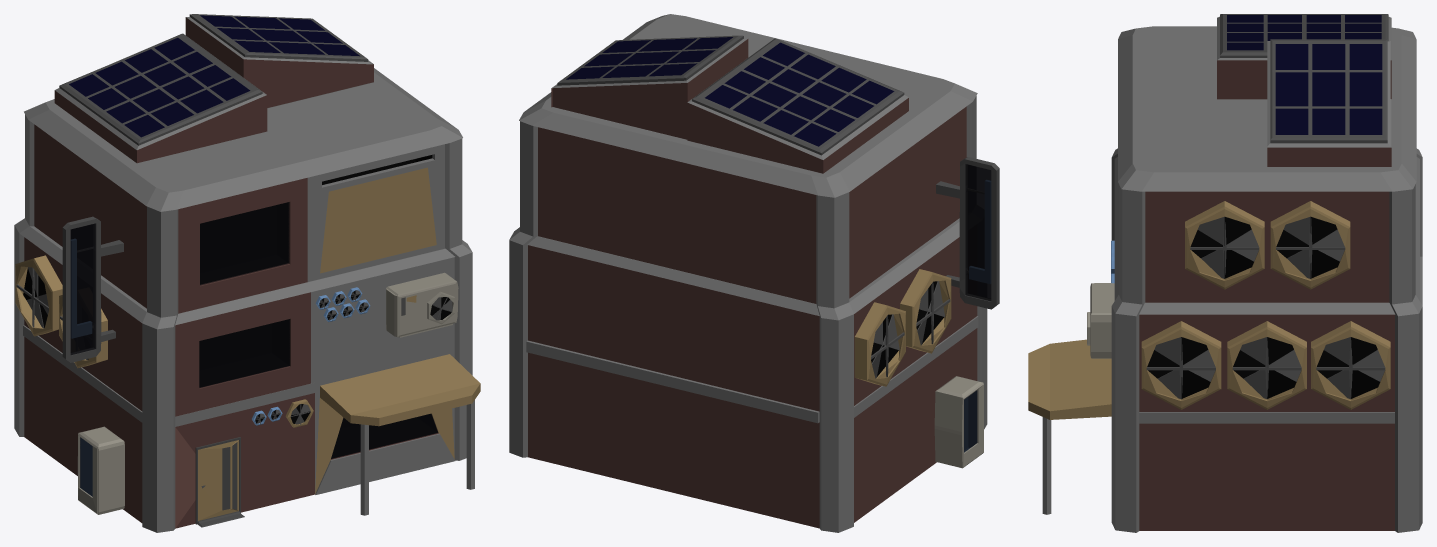
Rendered from CybP-Laundro.fbx.
The picture shows the model from 3 angles, left to right: view 1: azimuth 30°, elevation 25°; view 2: azimuth 150°, elevation 25°; view 3: azimuth 270°, elevation 25°; orthographic projection. The views are drawn at different scales.
Visible parts, largest first — view 1: CybP_Laundro; view 2: CybP_Laundro; view 3: CybP_Laundro.
Boxes of the visible parts, box(x1,y1,x2,y2) form: CybP_Laundro: box(14, 14, 480, 532); CybP_Laundro: box(509, 14, 999, 532); CybP_Laundro: box(1028, 14, 1422, 532).
Size of the model in its own units: 9.69 by 9.4 by 8.17.
